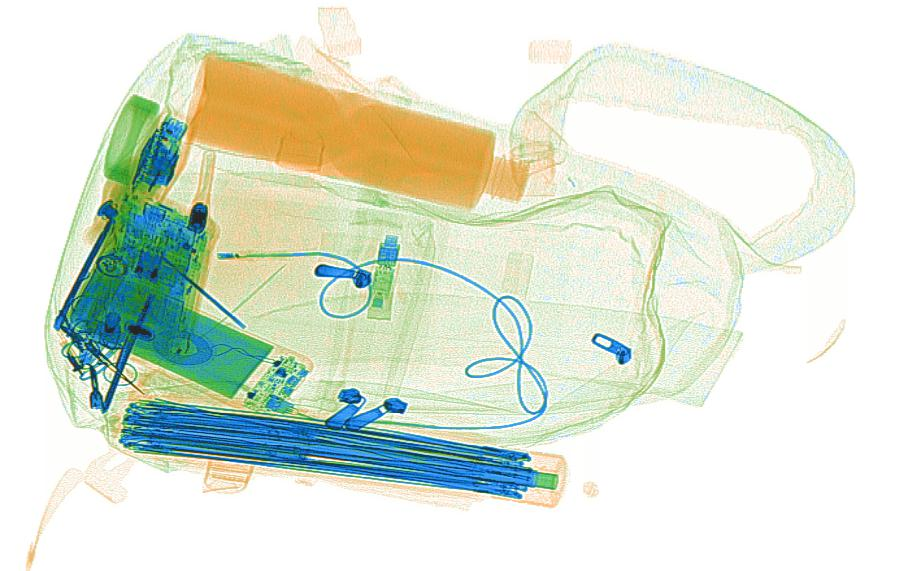USBFlashDisk: (365, 233, 401, 320)
